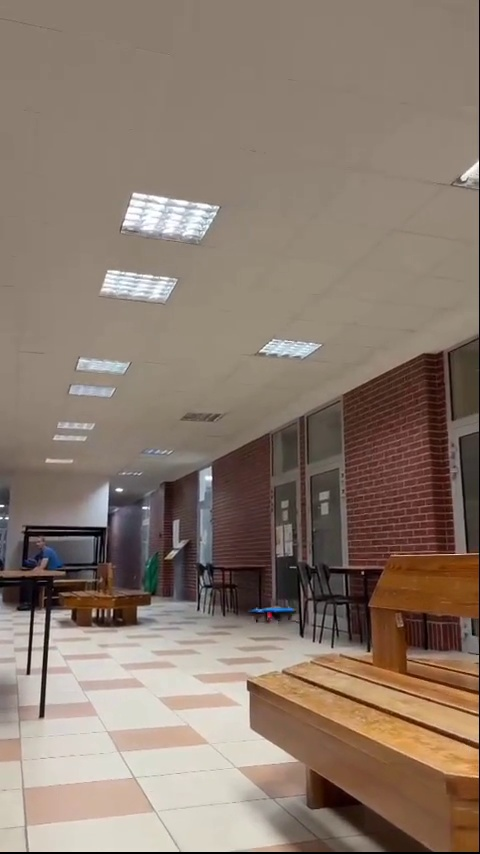drone: (251, 602, 295, 625)
no vest: (26, 533, 63, 601)
